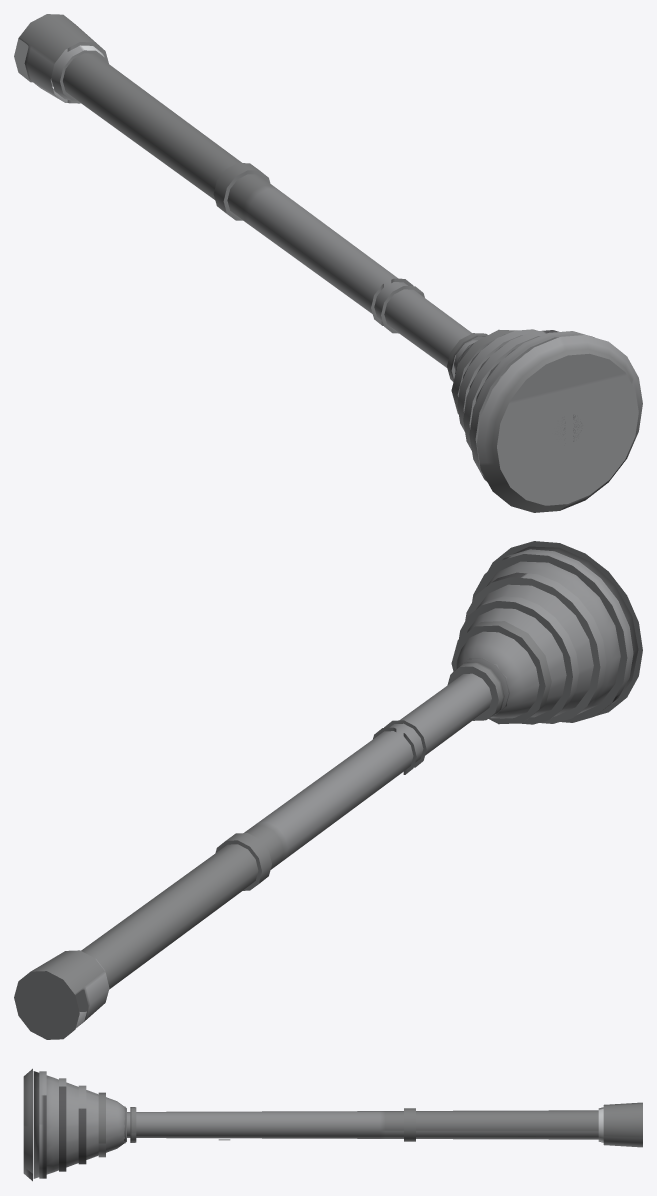
3 renders of one model, top to bottom at view 1: azimuth 30°, elevation 25°; view 2: azimuth 150°, elevation 25°; view 3: azimuth 270°, elevation 25°, orthographic. The views are drawn at different scales.
Size of the model in its own units: 0.48 by 0.48 by 2.64.
